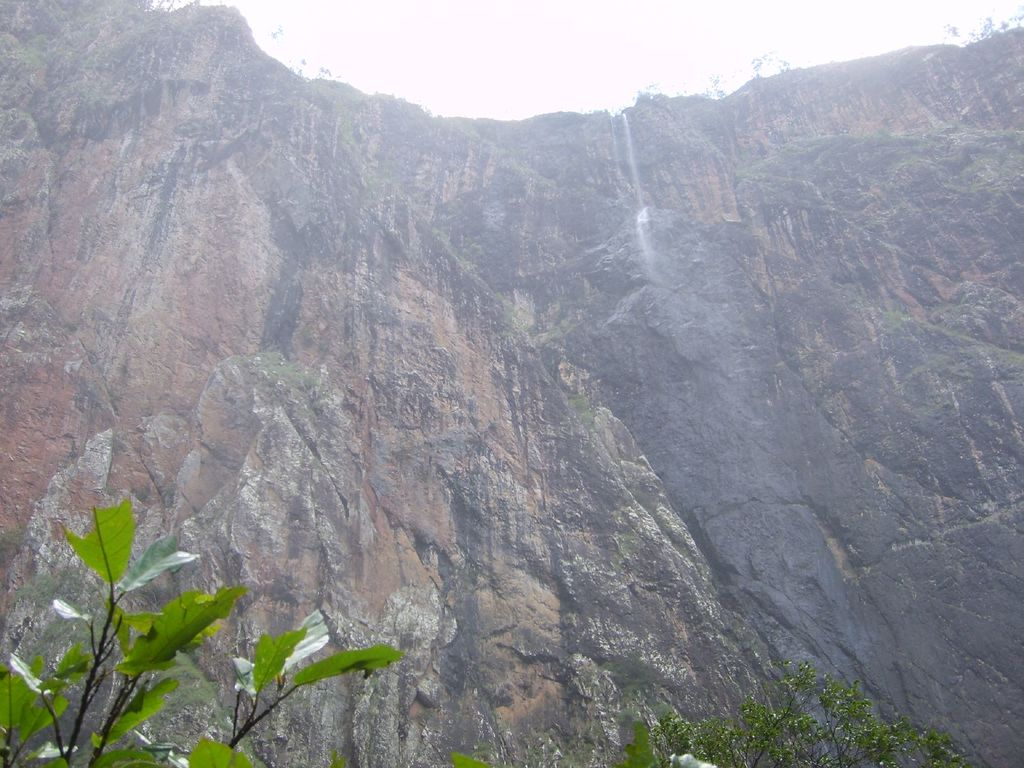Tree: (0, 494, 975, 768)
